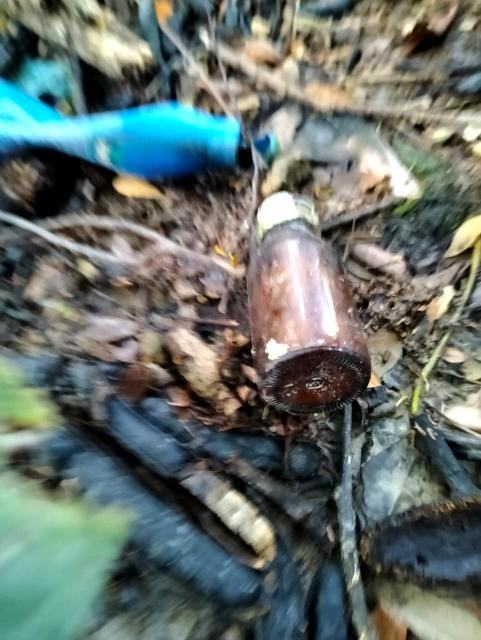bottle: (243, 179, 369, 411)
